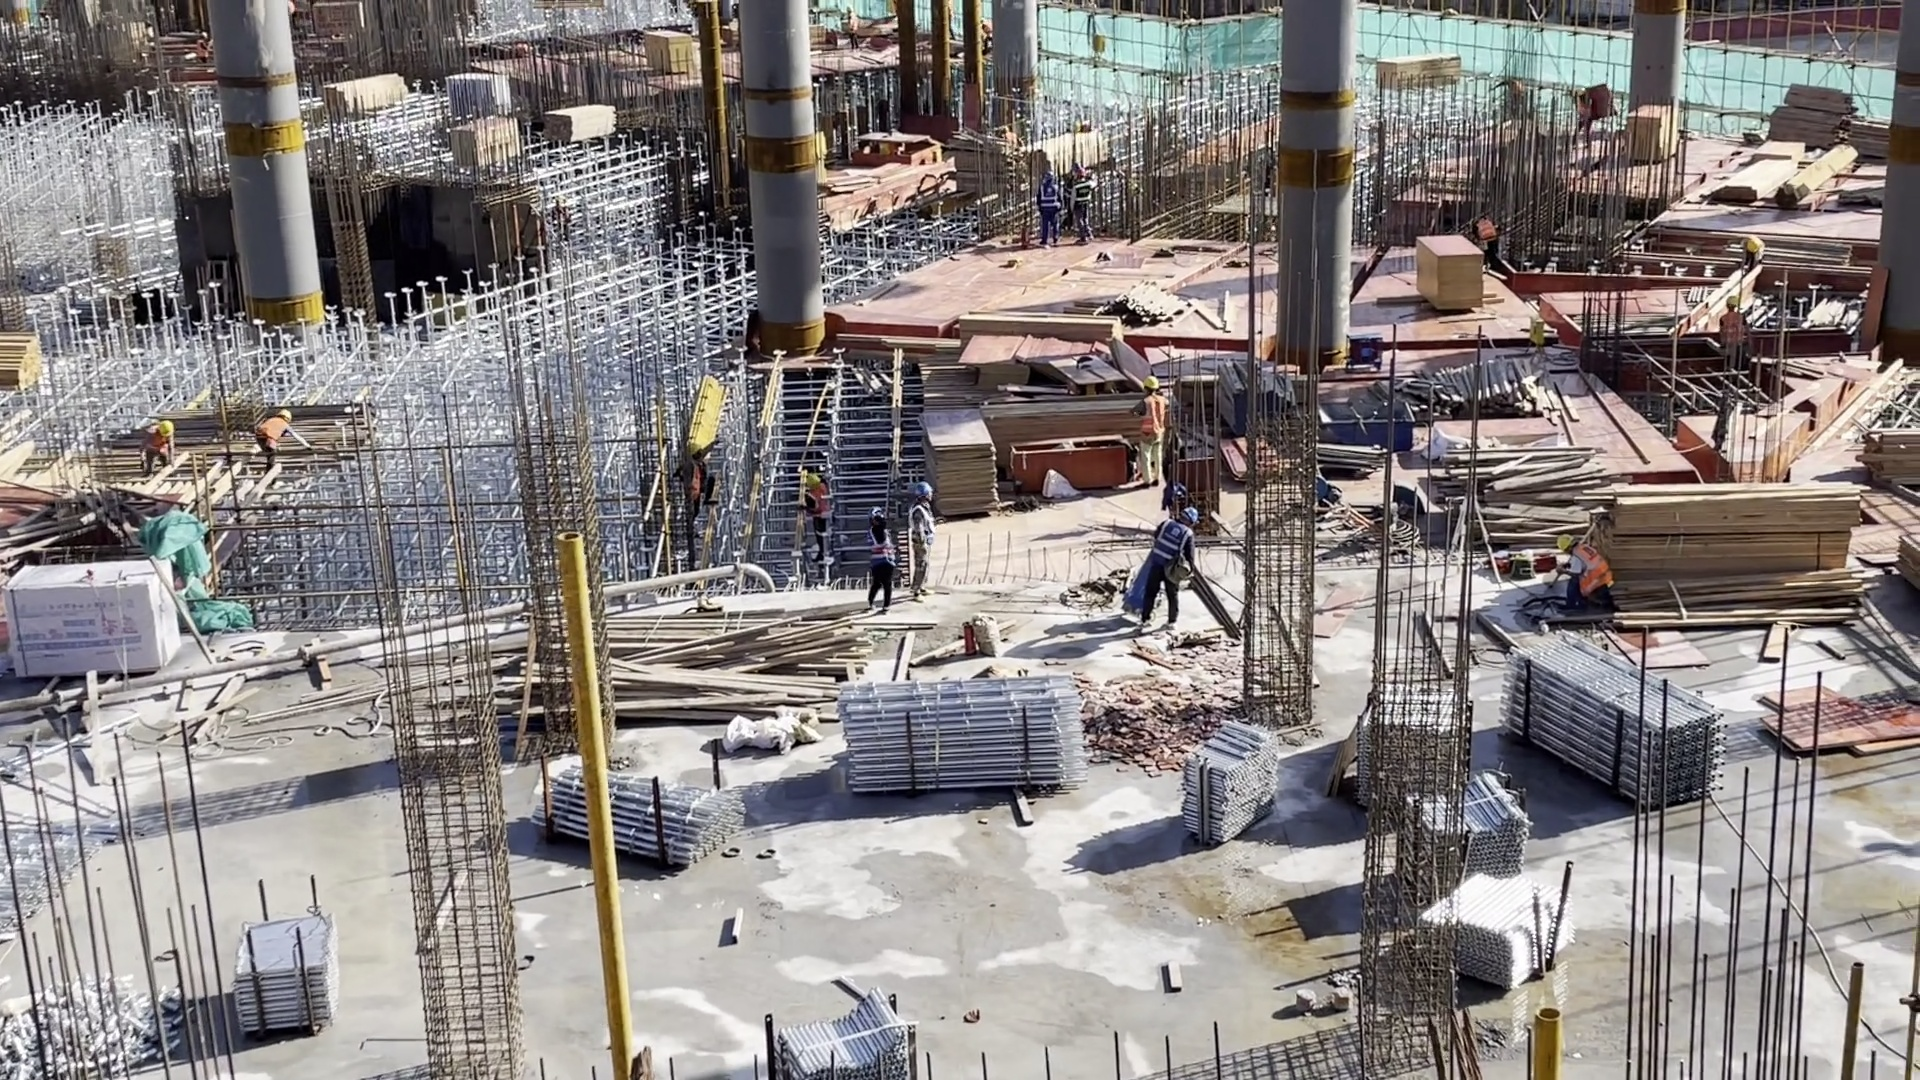helmet: (914, 483, 933, 499), (1143, 374, 1157, 394), (1557, 535, 1573, 551), (1179, 508, 1198, 521), (807, 472, 821, 486), (689, 444, 701, 456), (278, 407, 292, 420), (871, 509, 884, 521), (1726, 298, 1737, 308), (161, 422, 172, 433), (1075, 167, 1084, 179), (1043, 173, 1054, 182)
person: (1145, 506, 1200, 642), (1552, 532, 1621, 617), (1130, 369, 1171, 482), (677, 442, 725, 537), (247, 408, 311, 471), (911, 482, 943, 606), (867, 508, 900, 615), (807, 469, 837, 561), (137, 419, 186, 475), (1037, 172, 1067, 253), (1074, 165, 1099, 239), (1718, 301, 1754, 350), (1493, 72, 1533, 113), (1470, 212, 1501, 263), (196, 32, 215, 75), (845, 8, 862, 42), (984, 19, 999, 49)
vest: (1574, 546, 1611, 594), (1155, 521, 1191, 567), (1140, 397, 1164, 445), (868, 524, 893, 564), (258, 416, 287, 444), (913, 506, 933, 545), (1721, 312, 1743, 348), (686, 461, 707, 494), (808, 489, 829, 520), (1039, 184, 1059, 212), (146, 429, 164, 455), (1074, 179, 1092, 202), (1477, 222, 1496, 239), (195, 40, 208, 58), (846, 15, 857, 31)
